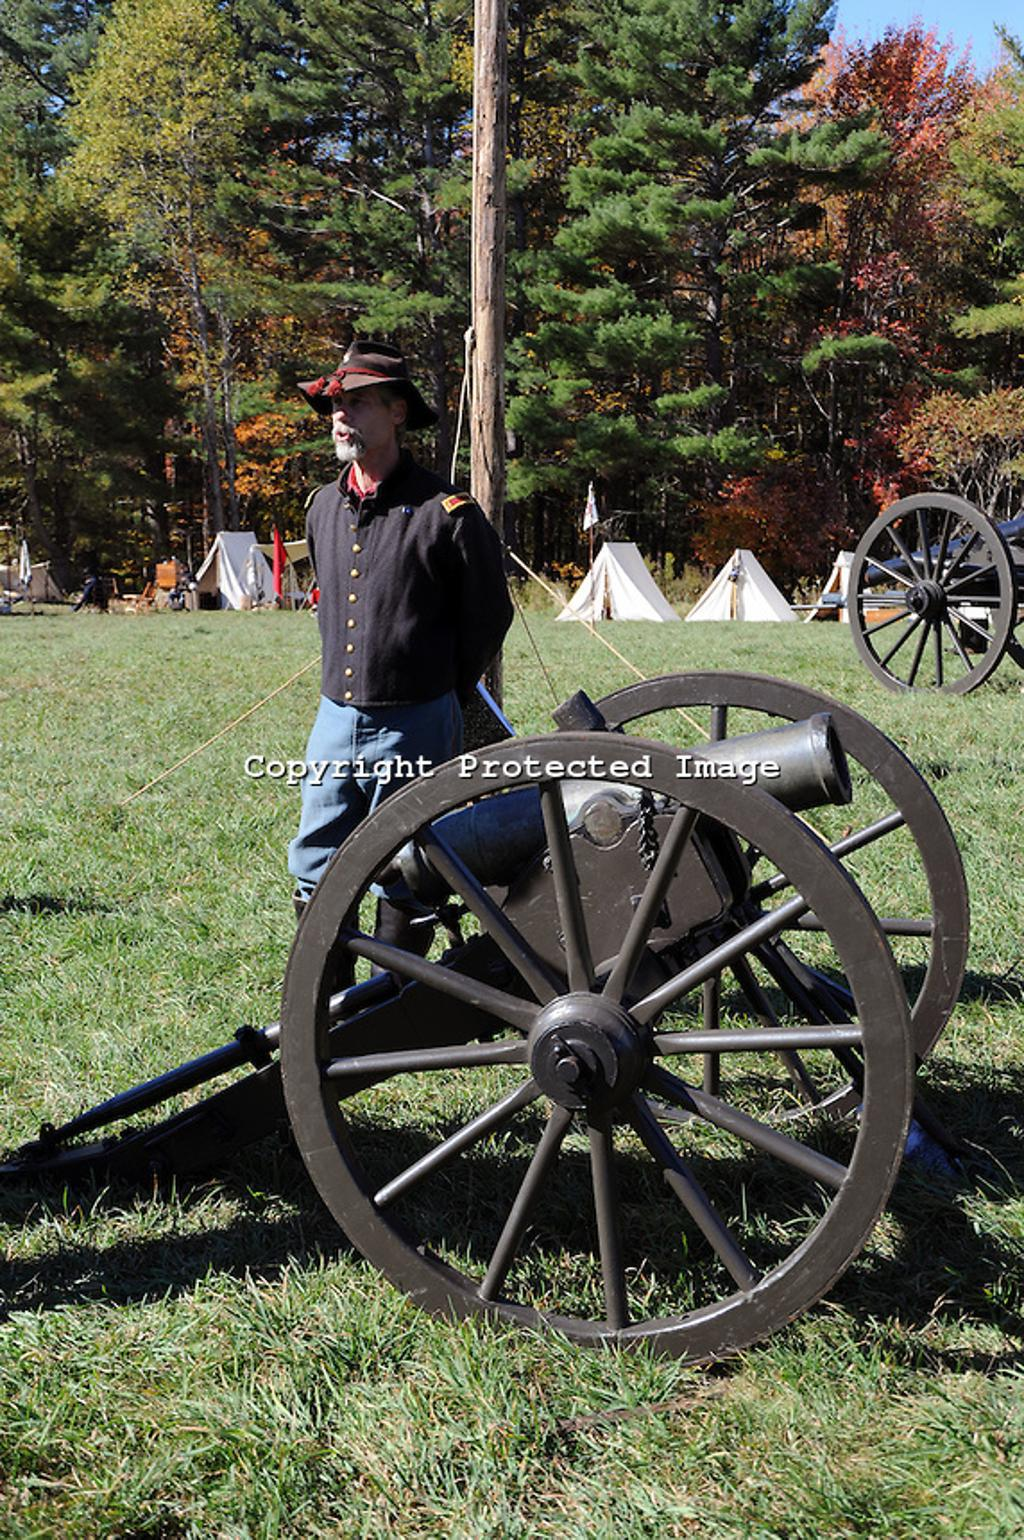face: (322, 379, 385, 463)
